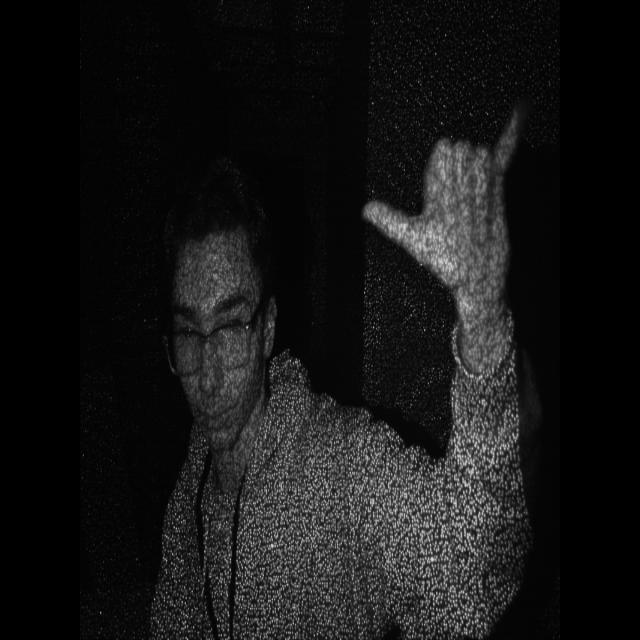Y: (357, 83, 544, 317)
